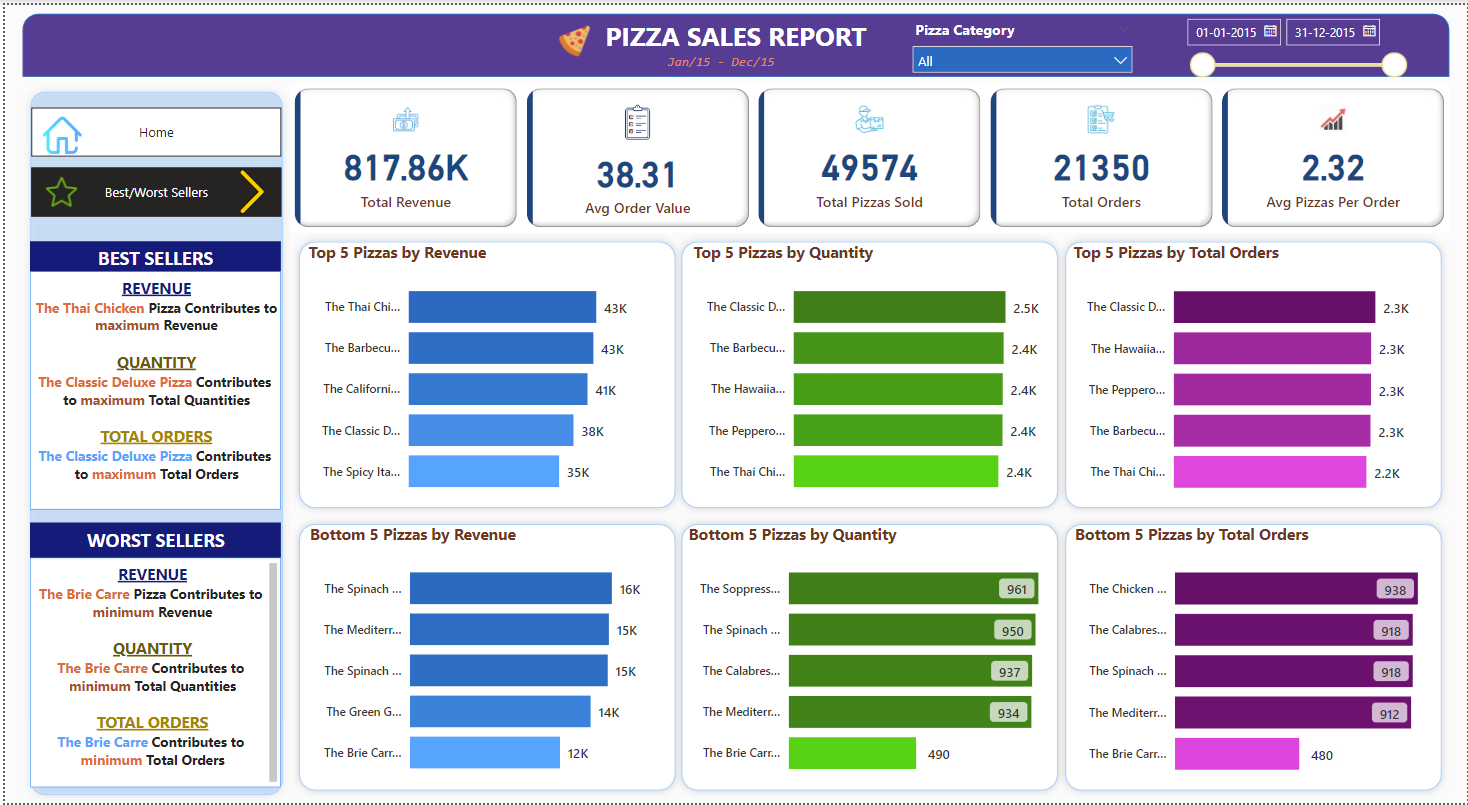

This screenshot's page, from the dashboard's own definition file:
{"tool":"powerbi","page":{"name":"Best/Worst Sellers","canvas":[1500,820],"ordinal":1},"visuals":[{"type":"shape","box":[17.5,81.2,275,738.8],"z":0},{"type":"cardVisual","fields":{"Data":["pizza_sales.Total Revenue","pizza_sales.Avg Order Value","pizza_sales.Total Pizzas Sold","pizza_sales.Total Orders","pizza_sales.Avg Pizzas Per Order"]},"box":[292.5,81.2,1190,152.5],"z":1000},{"type":"shape","box":[17.5,8.8,1465,65],"z":2000},{"type":"textbox","box":[593.8,8.8,312.5,53.8],"z":3000},{"type":"textbox","box":[675,43.8,150,37.5],"z":4000},{"type":"image","box":[563.8,10,42.5,53.8],"z":5000},{"type":"shape","box":[293.8,235.3,402.3,289.6],"z":6000},{"type":"textbox","box":[25.7,242.5,257.9,35.9],"z":7000},{"type":"textbox","box":[25.7,273.3,257.9,245.1],"z":8000},{"type":"textbox","box":[25.7,567.2,257.9,236.1],"z":9000},{"type":"textbox","box":[25.7,531.3,257.9,35.9],"z":10000},{"type":"slicer","fields":{"Values":["pizza_sales.pizza_category"]},"box":[921.2,10,246.2,63.8],"z":11000},{"type":"slicer","fields":{"Values":["pizza_sales.order_date"]},"box":[1201.2,3.8,246.2,80],"z":12000},{"type":"shape","box":[293.8,524.9,402.3,289.6],"z":13000},{"type":"shape","box":[686.3,235.3,402.3,289.6],"z":14000},{"type":"shape","box":[1080.3,235.3,402.3,289.6],"z":15000},{"type":"shape","box":[686.3,524.9,402.3,289.6],"z":16000},{"type":"shape","box":[1080.3,524.9,402.3,289.6],"z":17000},{"type":"barChart","title":"Top 5 Pizzas by Revenue","fields":{"Category":["pizza_sales.pizza_name"],"Y":["pizza_sales.Total Revenue"]},"box":[306.3,242.2,378.7,275.7],"z":18000},{"type":"barChart","title":"Bottom 5 Pizzas by Revenue","fields":{"Category":["pizza_sales.pizza_name"],"Y":["pizza_sales.Total Revenue"]},"box":[307.7,531.8,378.7,275.7],"z":18001},{"type":"barChart","title":"Top 5 Pizzas by Quantity","fields":{"Category":["pizza_sales.pizza_name"],"Y":["pizza_sales.Total Pizzas Sold"]},"box":[701.7,242.2,378.7,275.7],"z":18002},{"type":"barChart","title":"Bottom 5 Pizzas by Quantity","fields":{"Category":["pizza_sales.pizza_name"],"Y":["pizza_sales.Total Pizzas Sold"]},"box":[697.3,531.8,379.2,276.4],"z":18003},{"type":"barChart","title":"Top 5 Pizzas by Total Orders","fields":{"Category":["pizza_sales.pizza_name"],"Y":["pizza_sales.Total Orders"]},"box":[1092.6,242.6,379.2,276.4],"z":18004},{"type":"barChart","title":"Bottom 5 Pizzas by Total Orders","fields":{"Category":["pizza_sales.pizza_name"],"Y":["pizza_sales.Total Orders"]},"box":[1092.9,531.8,378.7,277],"z":18005},{"type":"pageNavigator","box":[26.5,167.1,257.6,50.1],"z":18006},{"type":"pageNavigator","box":[26.5,105.8,257.6,50.1],"z":18007},{"type":"image","box":[222.8,164.3,59.9,54.3],"z":18008},{"type":"image","box":[18.1,108.6,80.7,50.1],"z":18009},{"type":"image","box":[37.6,169.8,41.8,44.6],"z":18010}]}

Visuals, with their boxes in screenshot pixels (x1, y1, x2, y2), scaled from the page's 1500x820 canvas onto the 1468x805 screenshot:
shape: (17,80,286,804)
cardVisual - pizza_sales.Total Revenue x pizza_sales.Avg Order Value: (286,80,1451,229)
shape: (17,9,1451,72)
textbox: (581,9,887,61)
textbox: (661,43,807,80)
image: (552,10,593,63)
shape: (288,231,681,515)
textbox: (25,238,278,273)
textbox: (25,268,278,509)
textbox: (25,557,278,789)
textbox: (25,522,278,557)
slicer - pizza_sales.pizza_category: (902,10,1142,72)
slicer - pizza_sales.order_date: (1176,4,1417,82)
shape: (288,515,681,800)
shape: (672,231,1065,515)
shape: (1057,231,1451,515)
shape: (672,515,1065,800)
shape: (1057,515,1451,800)
"Top 5 Pizzas by Revenue" barChart: (300,238,670,508)
"Bottom 5 Pizzas by Revenue" barChart: (301,522,672,793)
"Top 5 Pizzas by Quantity" barChart: (687,238,1057,508)
"Bottom 5 Pizzas by Quantity" barChart: (682,522,1054,793)
"Top 5 Pizzas by Total Orders" barChart: (1069,238,1440,510)
"Bottom 5 Pizzas by Total Orders" barChart: (1070,522,1440,794)
pageNavigator: (26,164,278,213)
pageNavigator: (26,104,278,153)
image: (218,161,277,215)
image: (18,107,97,156)
image: (37,167,78,210)
